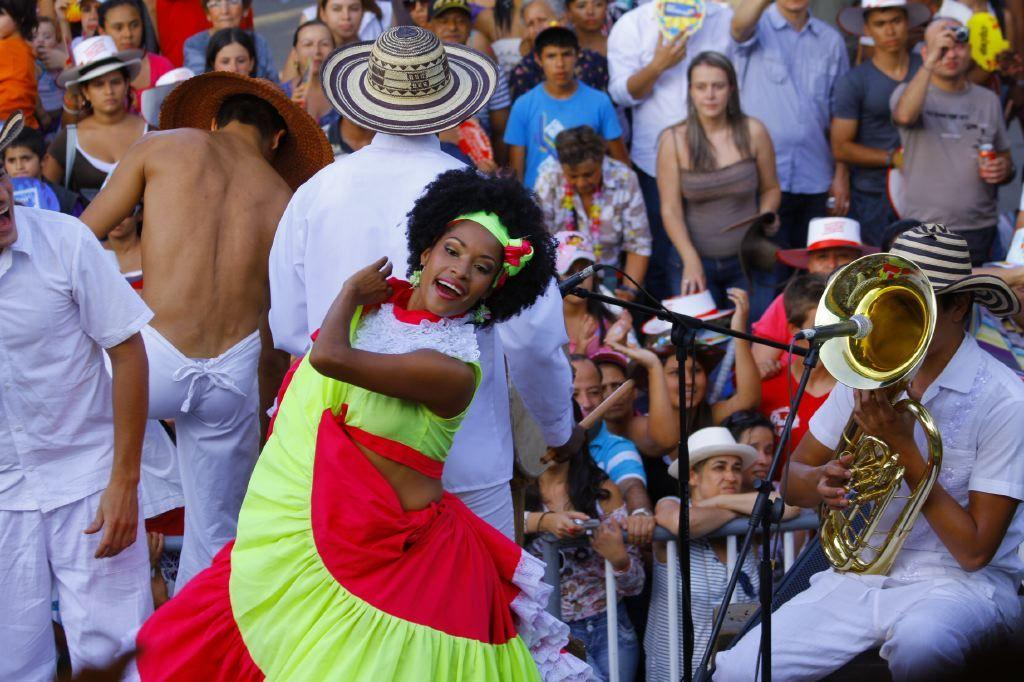Hat: (158, 70, 332, 192), (318, 21, 498, 137), (886, 218, 1020, 320), (775, 214, 881, 270), (670, 423, 760, 483), (54, 32, 142, 92), (642, 288, 738, 334), (137, 65, 191, 127), (839, 0, 929, 36), (553, 228, 597, 272), (0, 106, 23, 156)
